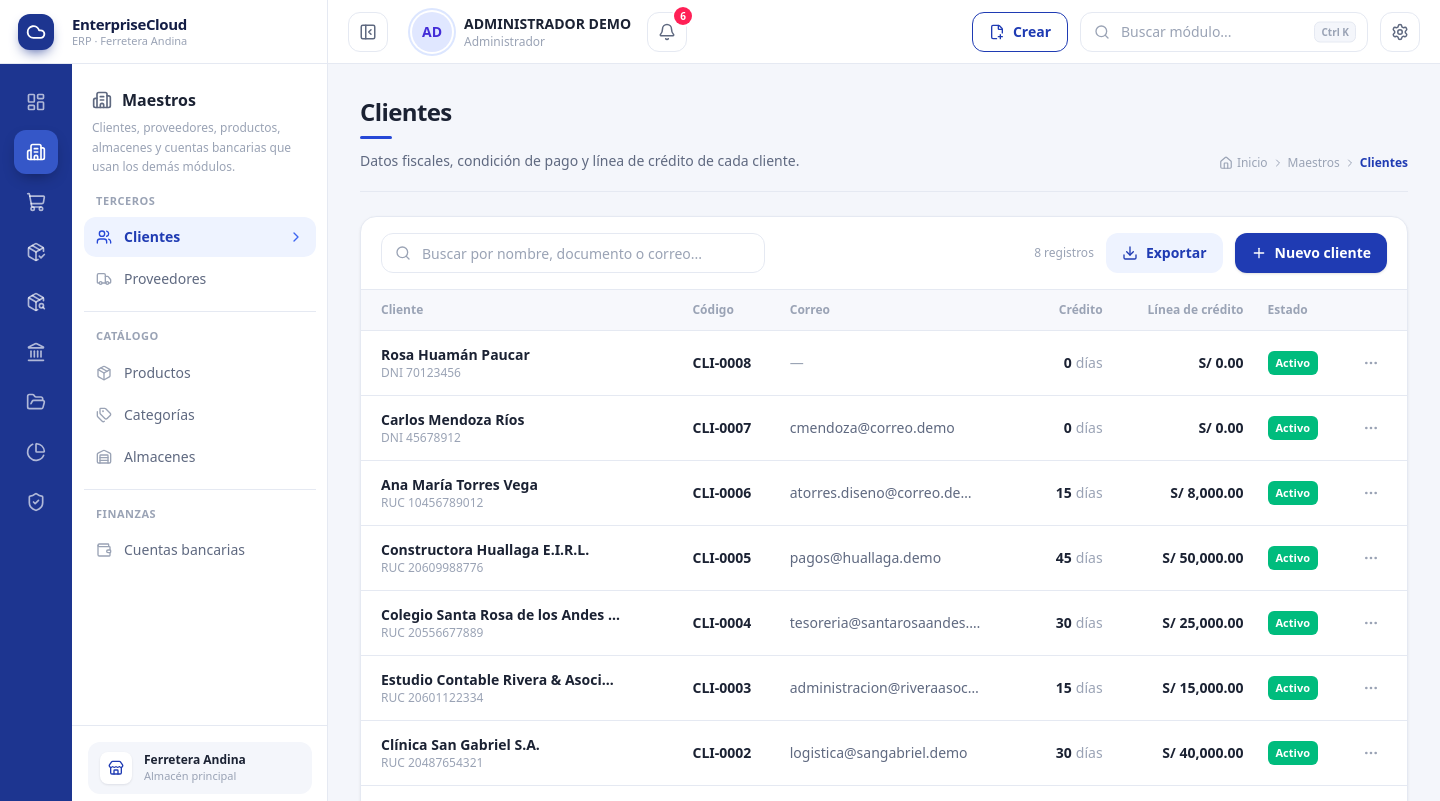
Test case: aplicación › filtra el listado con la búsqueda rápida
Expected: the text "Carlos Mendoza Ríos" is shown, [381,410,524,429]
Type "70123456" into the search field named "Buscar en Clientes" at (573, 253), box [381,233,765,273]
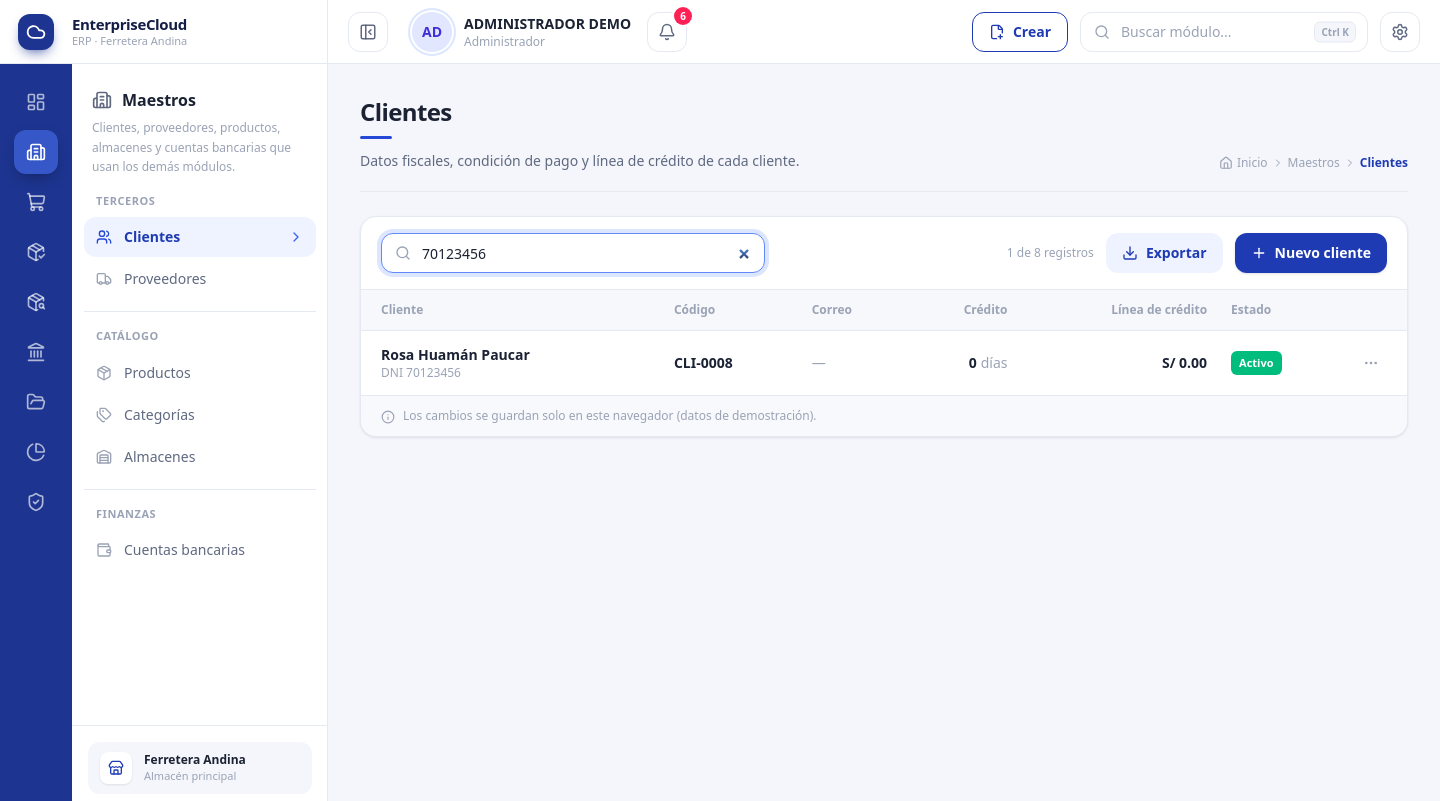
Expected: the text "Rosa Huamán Paucar" is shown, [381,345,530,364]
Expected: the text "Carlos Mendoza Ríos" is gone
Expected: the text "1 de 8 registros" is shown, [1007,245,1094,261]
Replace the text in the search field named "Buscar en Clientes" with "xyz-sin-coincidencias" at (573, 253), box [381,233,765,273]
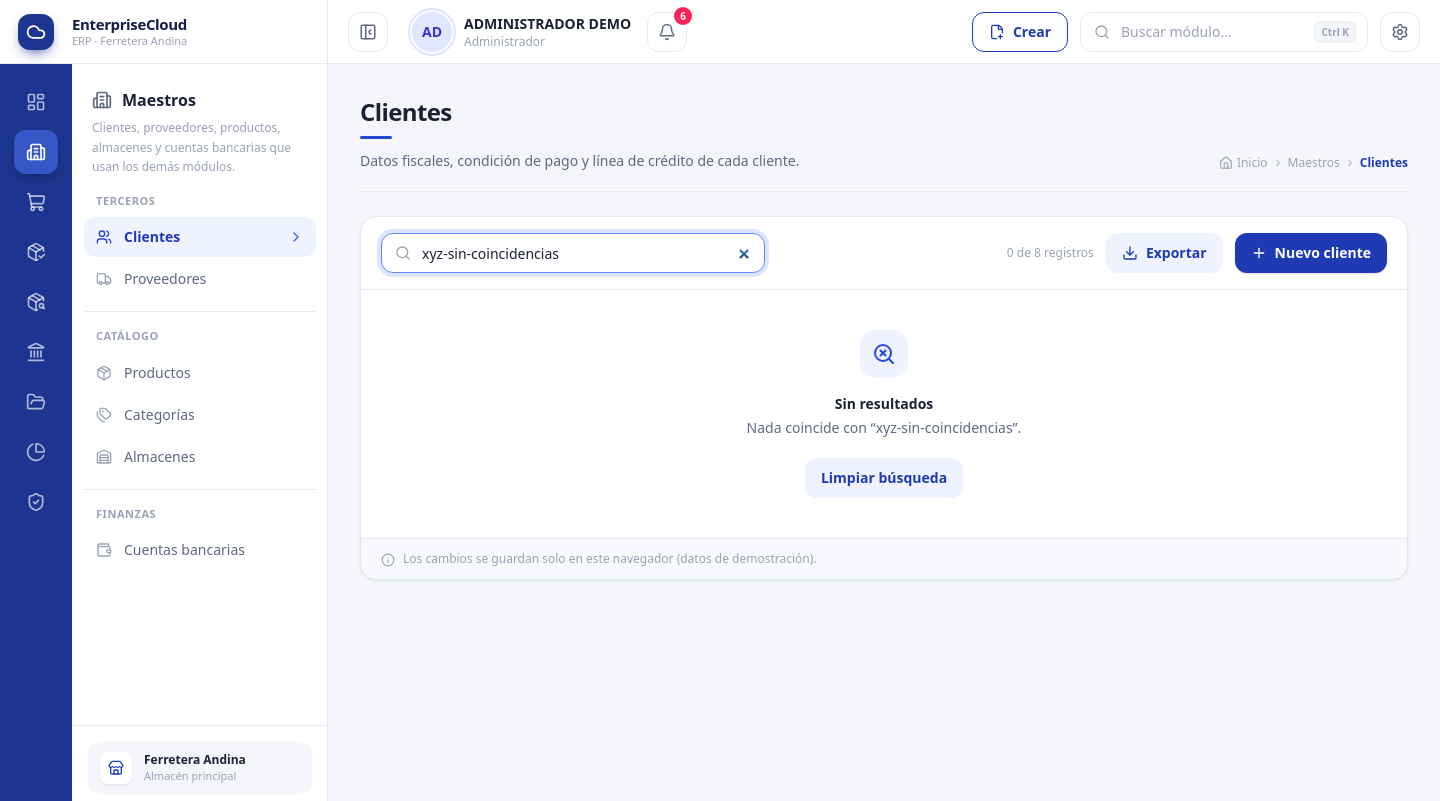
Expected: the text "Sin resultados" is shown, [835,394,933,414]
